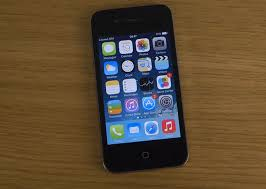iphone: (89, 1, 189, 179)
iphone4: (90, 1, 190, 178)
